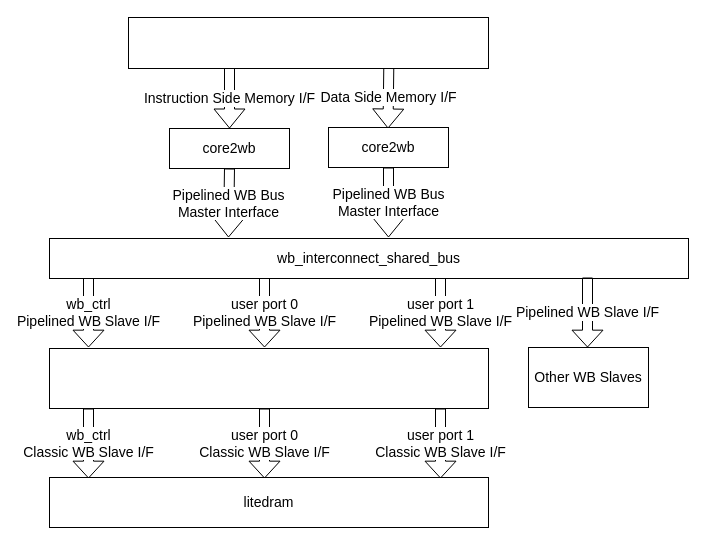
Some shapes in this 706 by 545 pixel diagram are drawn without their labels. The centre of each missing label's shape, as x and y in pixels:
Ibex: the point at 308,42
litedram_wrapper: the point at 268,378
